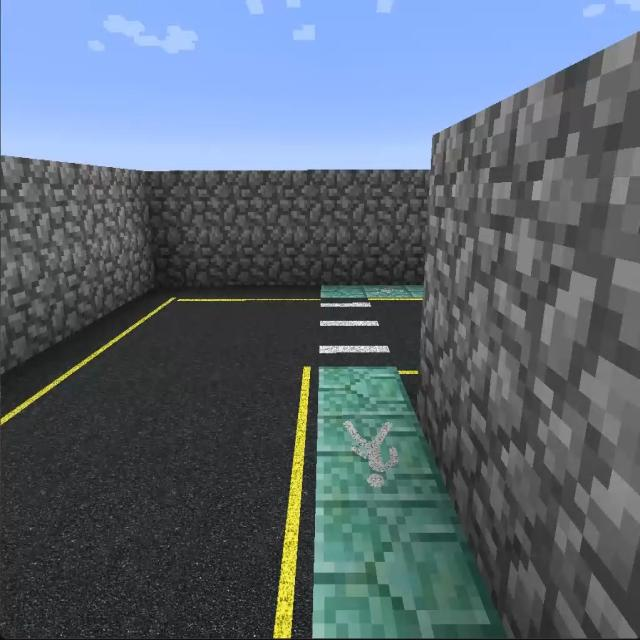crosswalk: (320, 299, 396, 364)
road: (6, 287, 313, 630), (376, 299, 421, 392)
sidewalk: (312, 367, 504, 639), (321, 285, 421, 299)
